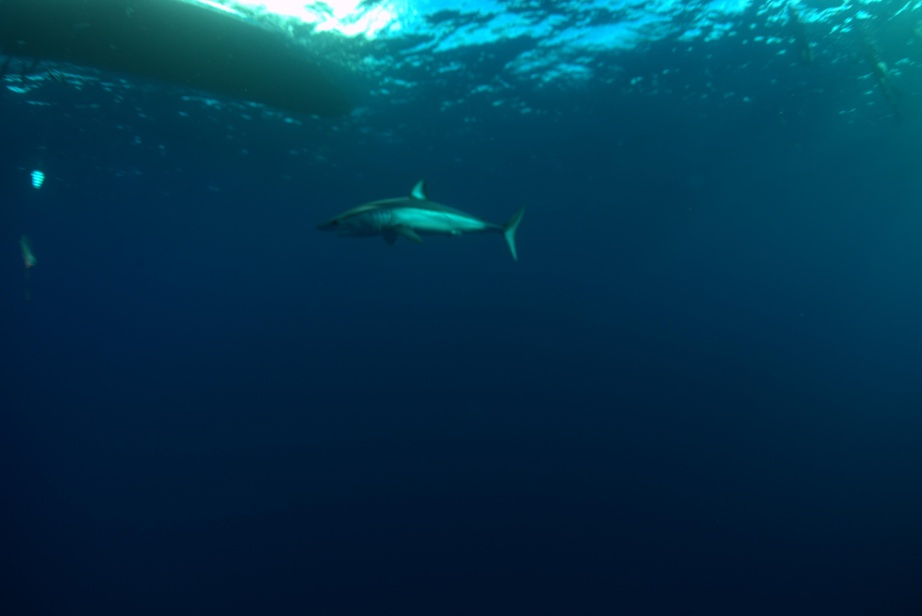Mako: (307, 174, 540, 272)
